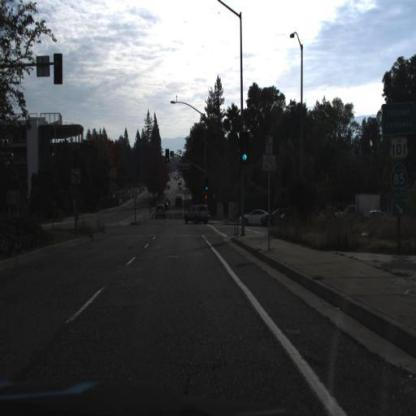car: (344, 193, 384, 214), (241, 207, 272, 233), (361, 204, 390, 231), (182, 202, 213, 226), (260, 206, 287, 231), (279, 207, 301, 228), (155, 203, 169, 220), (176, 195, 184, 209)
trafficLight-Green: (239, 131, 250, 165), (164, 148, 172, 165), (204, 177, 210, 192)
truck: (343, 190, 383, 217)
